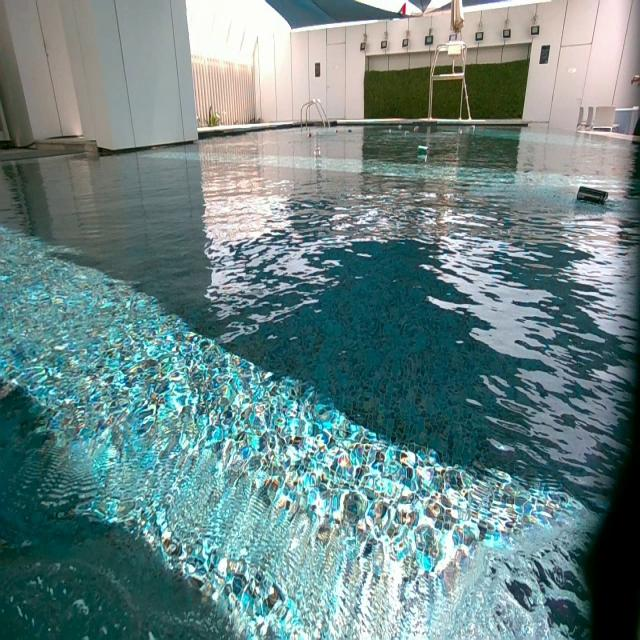Cans: (578, 188, 608, 208), (416, 145, 428, 156), (308, 132, 317, 140), (305, 132, 313, 140), (404, 130, 410, 136), (347, 128, 353, 133), (387, 129, 393, 134), (398, 124, 403, 130), (470, 125, 476, 130), (459, 130, 464, 135), (335, 130, 339, 134)
